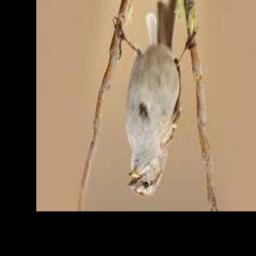Sparrow: (113, 0, 196, 197)
